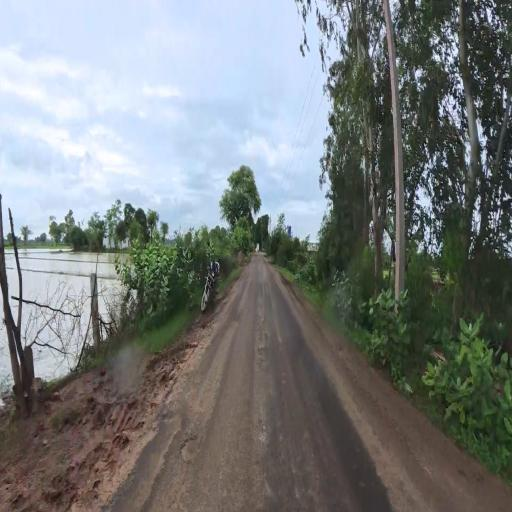edge_damage: (143, 382, 212, 502)
